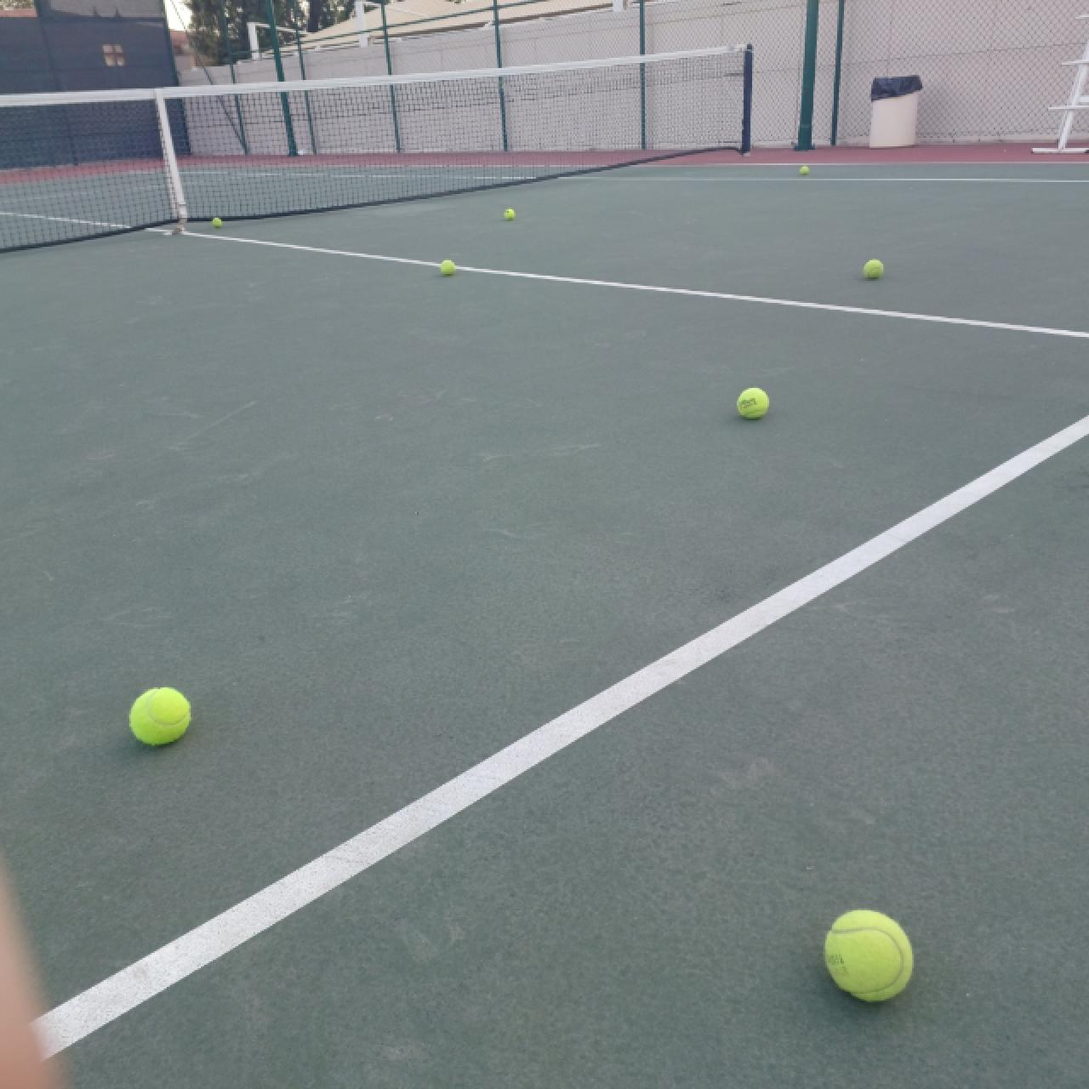tennis-ball: (825, 910, 914, 1005), (128, 685, 193, 750), (735, 387, 771, 421), (862, 258, 886, 282), (440, 259, 458, 278), (503, 208, 517, 222), (211, 217, 224, 229), (799, 164, 811, 176)
